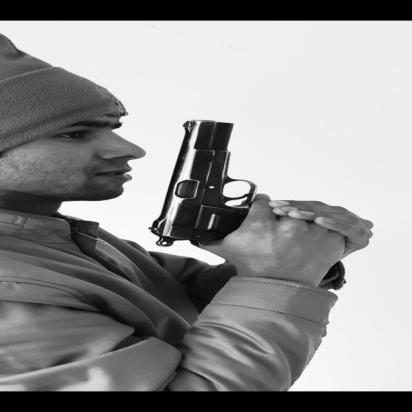Gun: (142, 119, 352, 251)
